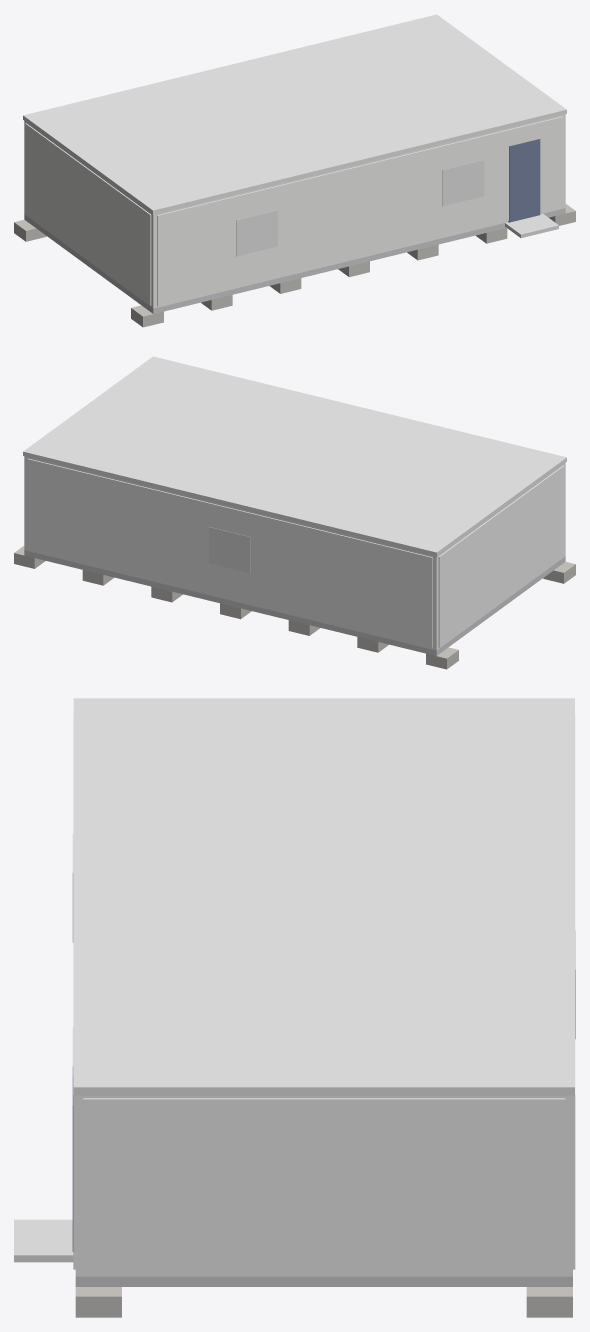
File: Studio-40-Village-LOD0.glb
3 views of the same model, one above another, from view 1: azimuth 30°, elevation 25°; view 2: azimuth 150°, elevation 25°; view 3: azimuth 270°, elevation 25° (orthographic). The views are drawn at different scales.
Visible parts, largest first — view 1: RoofMain, ExteriorPanelsStandard, WindowsStandard, BaseFrame, ExteriorShell, FoundationBlocks, EntryDoor, AccessibilityVillage; view 2: RoofMain, ExteriorPanelsStandard, BaseFrame, ExteriorShell, FoundationBlocks, WindowsStandard; view 3: RoofMain, ExteriorPanelsStandard, ExteriorShell, BaseFrame, FoundationBlocks, AccessibilityVillage.
Part boxes in pixels (<box>): RoofMain: <box>23,14,566,214</box>; ExteriorPanelsStandard: <box>25,116,562,306</box>; WindowsStandard: <box>236,160,484,256</box>; BaseFrame: <box>24,208,565,313</box>; ExteriorShell: <box>24,114,565,308</box>; FoundationBlocks: <box>14,204,575,327</box>; EntryDoor: <box>508,139,540,222</box>; AccessibilityVillage: <box>505,213,558,238</box>; RoofMain: <box>23,356,566,556</box>; ExteriorPanelsStandard: <box>27,458,564,648</box>; BaseFrame: <box>24,550,565,655</box>; ExteriorShell: <box>24,456,565,650</box>; FoundationBlocks: <box>14,546,575,669</box>; WindowsStandard: <box>209,527,250,573</box>; RoofMain: <box>73,698,574,1095</box>; ExteriorPanelsStandard: <box>73,714,575,1273</box>; ExteriorShell: <box>75,1095,572,1276</box>; BaseFrame: <box>75,1276,572,1286</box>; FoundationBlocks: <box>75,1287,572,1317</box>; AccessibilityVillage: <box>14,1219,73,1262</box>.
Bounding box in the file's own units: 12.49 × 3.17 × 7.29.
